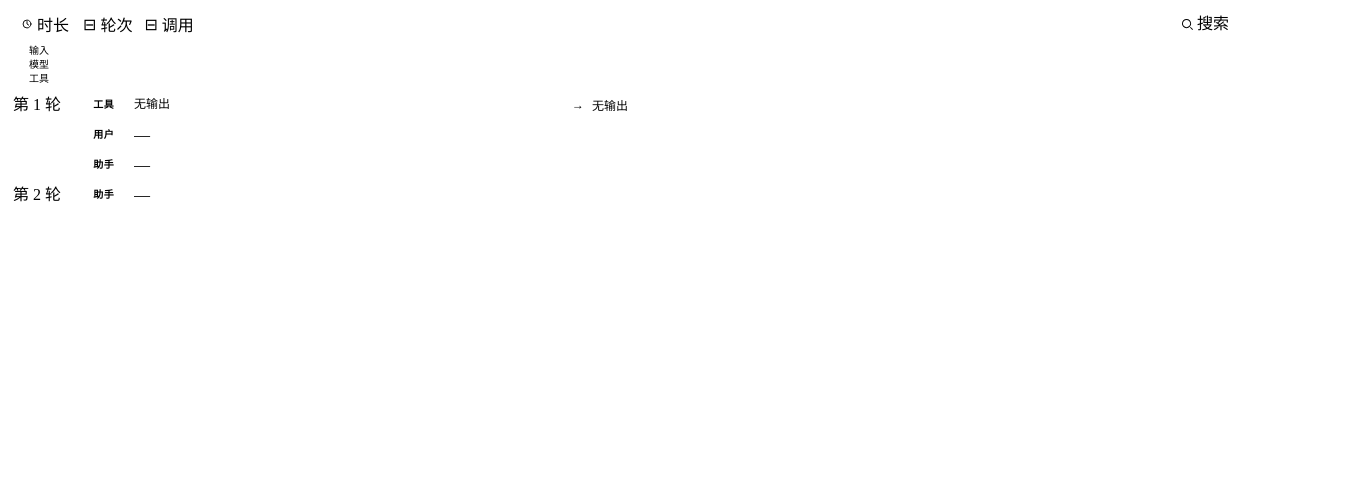
Test: ledger and inspector (standalone host) › opens a local record inspector and switches payload tabs
Press Enter in the row "第 1 轮 工具 无输出 → 无输出", box x1=8 y1=90 x2=1358 y2=120
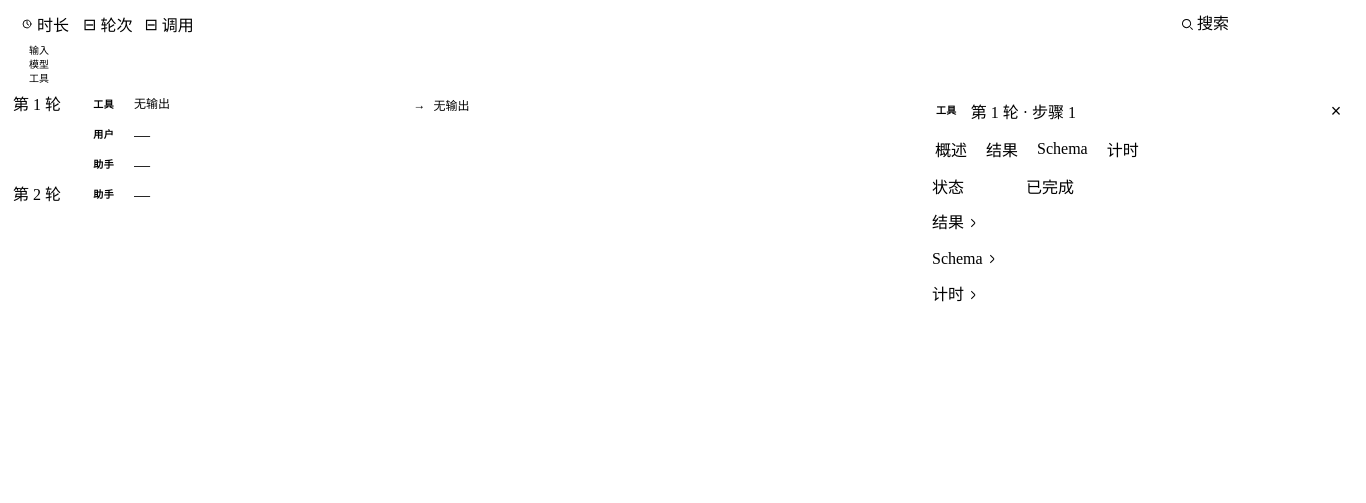
Result: the element named "事件详情" is shown at x1=918 y1=90 x2=1358 y2=486
Result: the text "第 1 轮 · 步骤 1" is shown at x1=971 y1=99 x2=1076 y2=123
Result: the text "已完成" is shown at x1=1026 y1=179 x2=1074 y2=196
Click the button named "关闭详情" at (1336, 111), box x1=1322 y1=97 x2=1350 y2=125
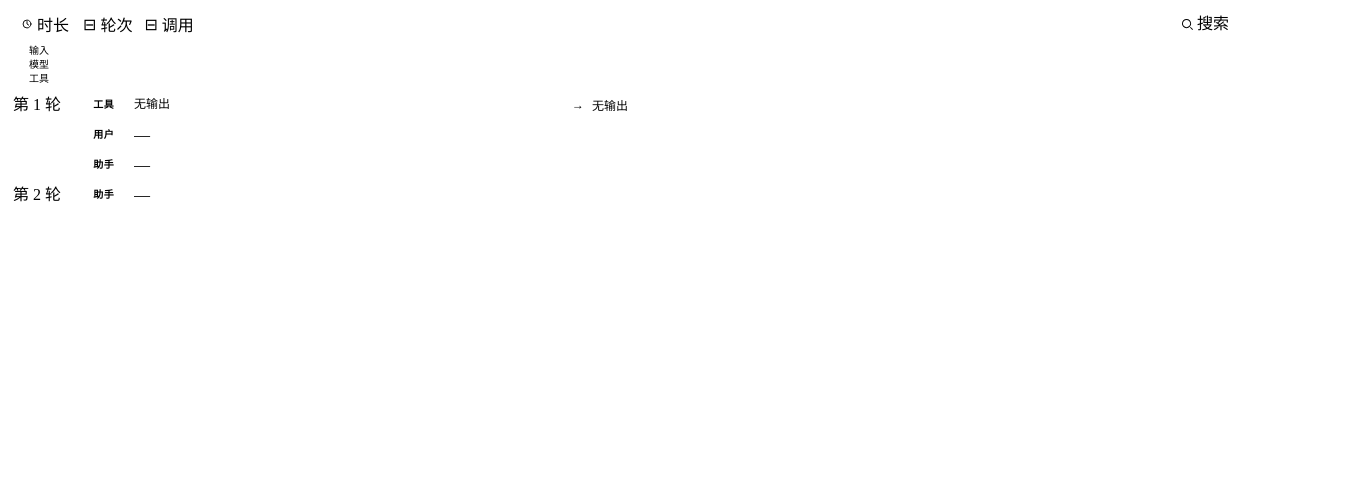
Result: the element "事件详情" is gone
